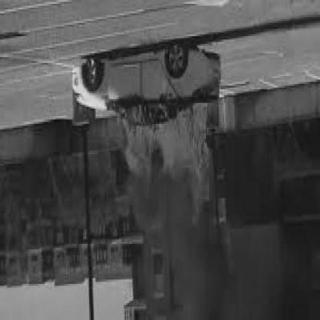Fire: (119, 100, 212, 226)
Smoke: (165, 238, 263, 318)
